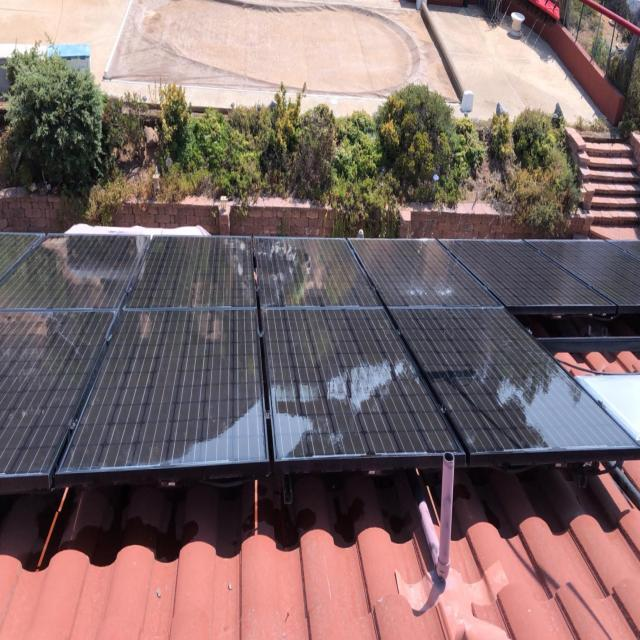clean-solar-panel: (0, 230, 640, 482)
